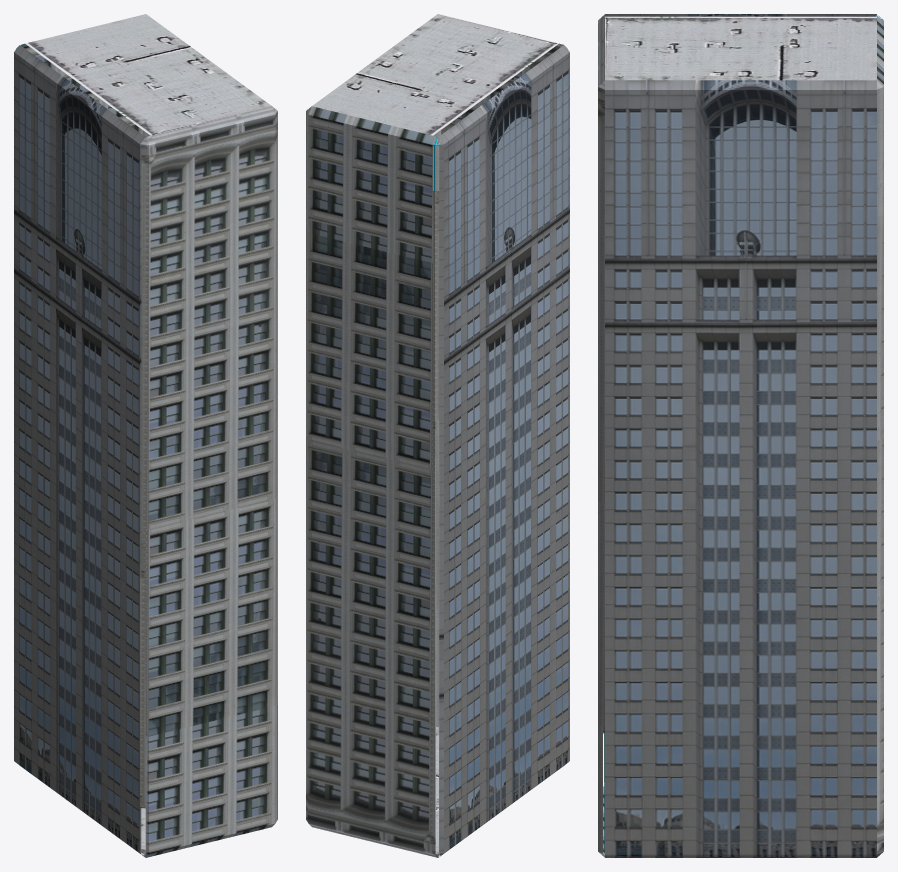
File: building05.fbx
3 renders of one model, left to right at view 1: azimuth 30°, elevation 25°; view 2: azimuth 150°, elevation 25°; view 3: azimuth 270°, elevation 25°, orthographic. The views are drawn at different scales.
Visible parts, largest first — view 1: pCube1; view 2: pCube1; view 3: pCube1.
Part boxes in pixels (<box>): pCube1: <box>14,14,277,857</box>; pCube1: <box>306,14,569,857</box>; pCube1: <box>598,14,883,857</box>.
Bounding box in the file's own units: 3 × 15 × 5.
Materials: 1 (1 with a texture image).
